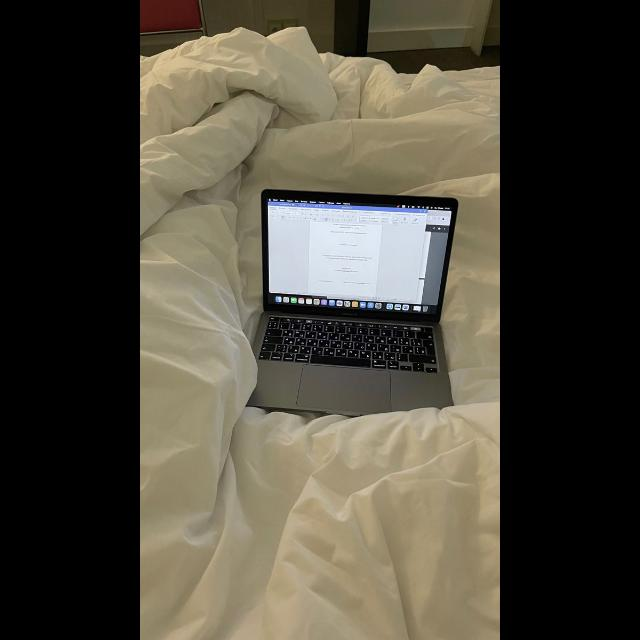laptop: (249, 188, 457, 415)
